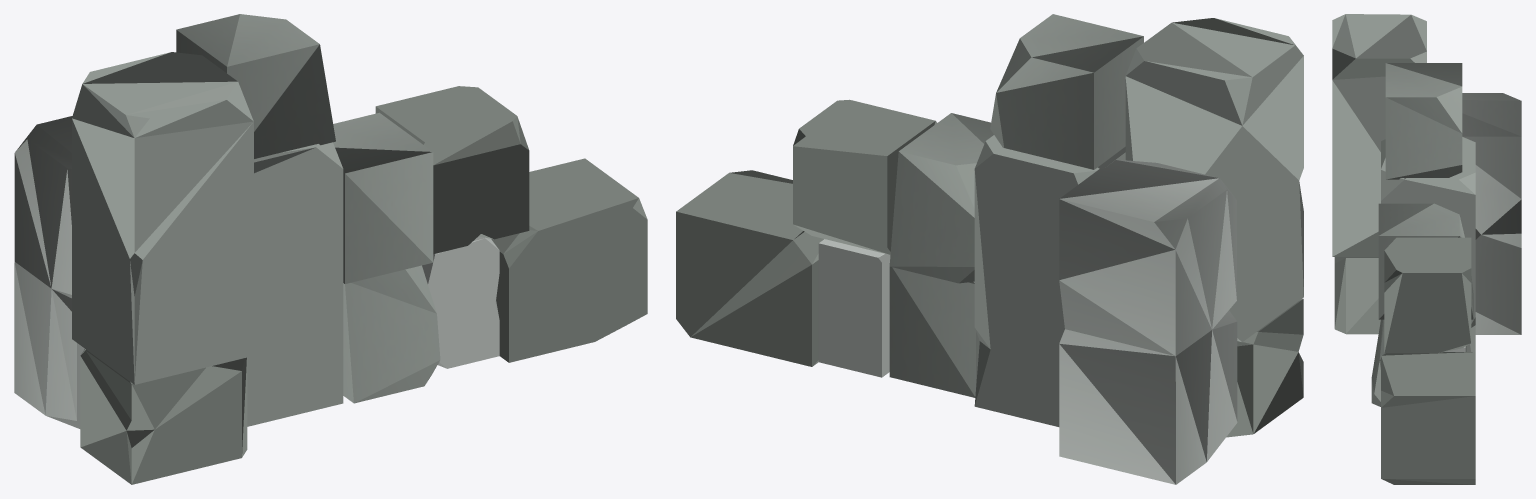
The model's file is ZLP_Build_D_37.FBX.
3 views of the same model, side by side, from view 1: azimuth 30°, elevation 25°; view 2: azimuth 150°, elevation 25°; view 3: azimuth 270°, elevation 25° (orthographic). The views are drawn at different scales.
Visible parts, largest first — view 1: ZLP_Build_D_37; view 2: ZLP_Build_D_37; view 3: ZLP_Build_D_37.
Boxes of the visible parts, x1,y1,x2,y2 form: ZLP_Build_D_37: [14, 14, 647, 484]; ZLP_Build_D_37: [676, 14, 1303, 484]; ZLP_Build_D_37: [1332, 14, 1521, 484].
Size of the model in its own units: 192 by 123 by 76.44.
